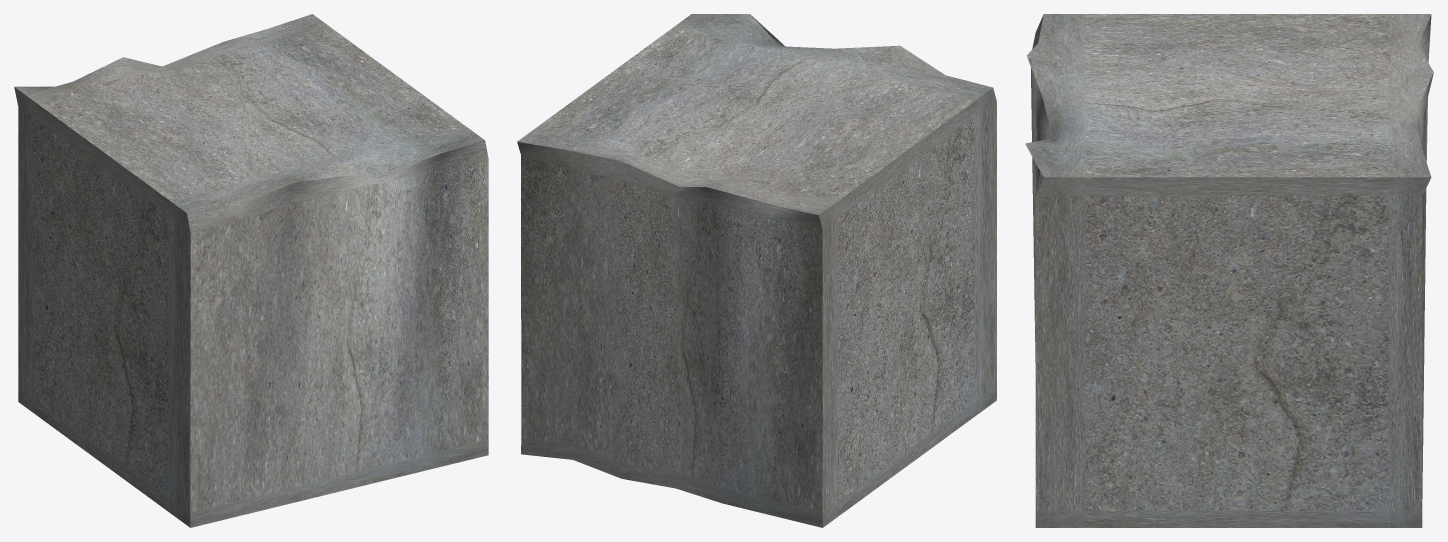
File: Rock tile.FBX
3 views of the same model, side by side, from view 1: azimuth 30°, elevation 25°; view 2: azimuth 150°, elevation 25°; view 3: azimuth 270°, elevation 25° (orthographic). The views are drawn at different scales.
Visible parts, largest first — view 1: Box001; view 2: Box001; view 3: Box001.
Part boxes in pixels (<box>): Box001: <box>14,14,488,527</box>; Box001: <box>517,14,996,527</box>; Box001: <box>1025,14,1433,527</box>.
Bounding box in the file's own units: 80 × 84.58 × 82.96.
Materials: 1 (1 with a texture image).
